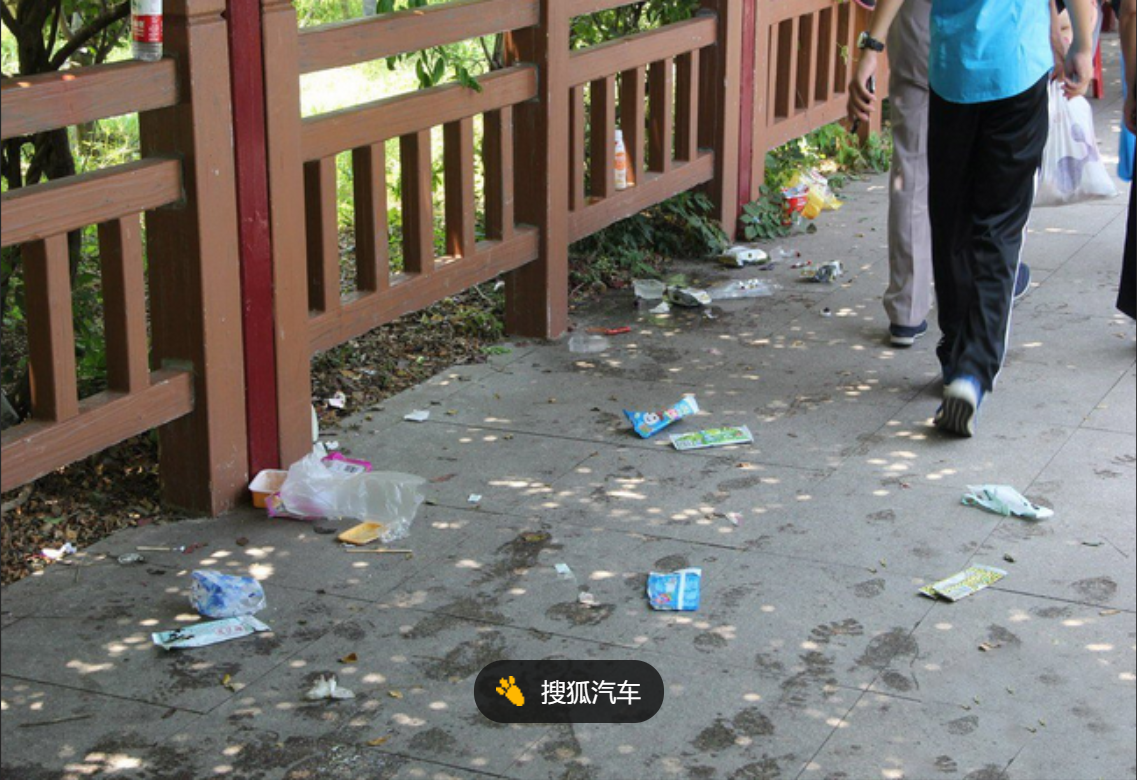garbage: (233, 441, 444, 545), (163, 563, 304, 656), (601, 261, 779, 332), (620, 398, 767, 465), (765, 141, 859, 230), (944, 469, 1061, 530), (909, 554, 1016, 610), (104, 2, 186, 66), (638, 566, 712, 621), (294, 670, 374, 719), (597, 124, 645, 198), (292, 392, 334, 450)
